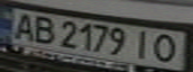1: (75, 20, 96, 52)
2: (54, 18, 78, 50)
7: (90, 22, 112, 54)
9: (106, 25, 130, 56)
A: (6, 10, 39, 40)
B: (27, 14, 60, 44)
I: (127, 28, 157, 60)
O: (148, 33, 184, 64)
